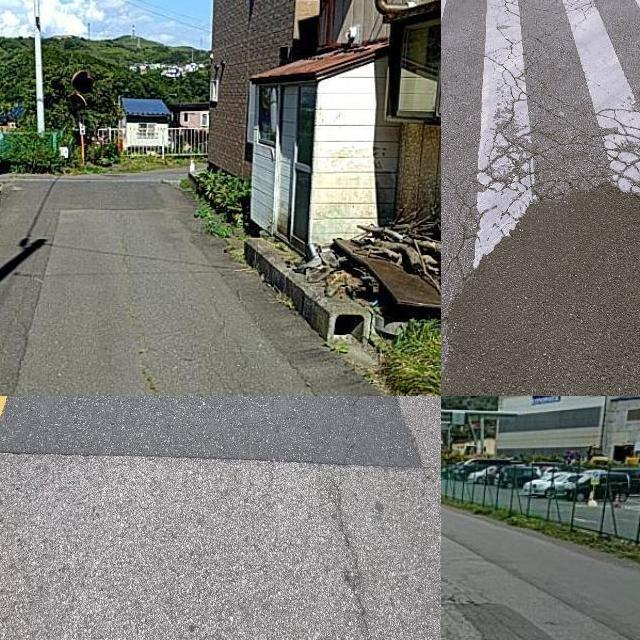Sambungan: (15, 207, 318, 396), (441, 182, 640, 396), (0, 396, 427, 463)
